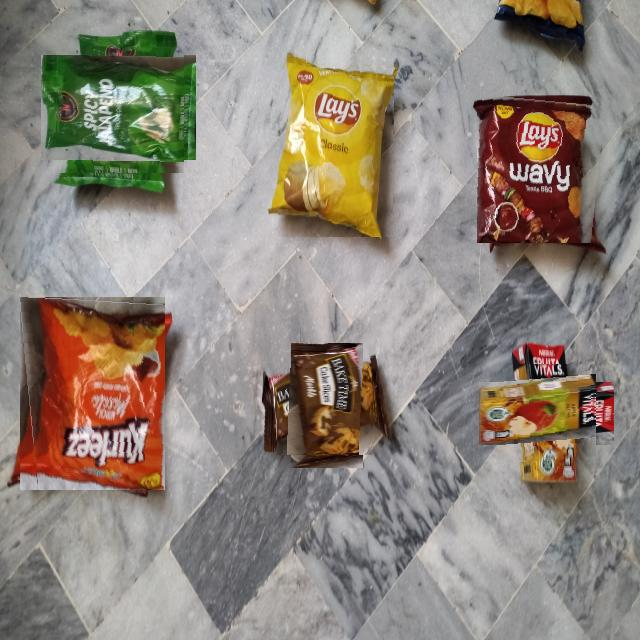Plastic: (19, 296, 165, 490), (272, 53, 394, 237), (477, 94, 605, 243), (54, 42, 184, 173), (497, 364, 596, 464), (277, 356, 376, 455)
